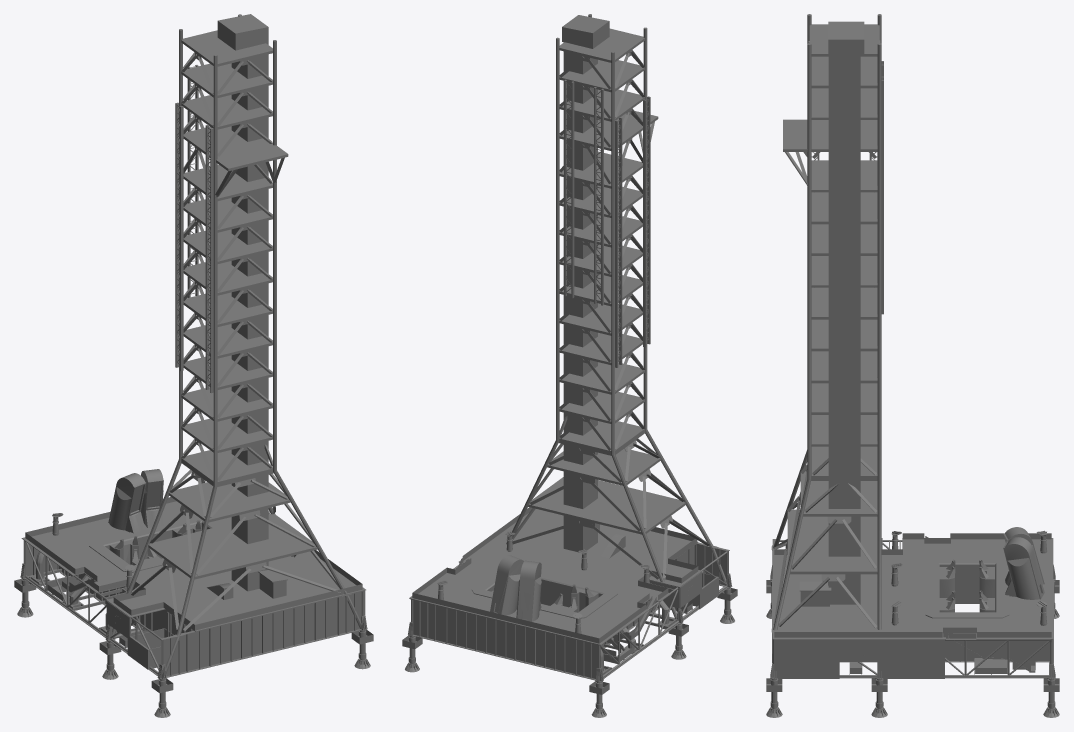
The model's file is LauncherLift.FBX.
3 views of the same model, side by side, from view 1: azimuth 30°, elevation 25°; view 2: azimuth 150°, elevation 25°; view 3: azimuth 270°, elevation 25° (orthographic). The views are drawn at different scales.
Visible parts, largest first — view 1: LauncherLift; view 2: LauncherLift; view 3: LauncherLift.
Boxes of the visible parts, bbox=[...] form: LauncherLift: bbox=[14, 14, 373, 717]; LauncherLift: bbox=[402, 14, 737, 717]; LauncherLift: bbox=[766, 14, 1059, 717].
Bounding box in the file's own units: 8.67 × 24.64 × 10.19.
